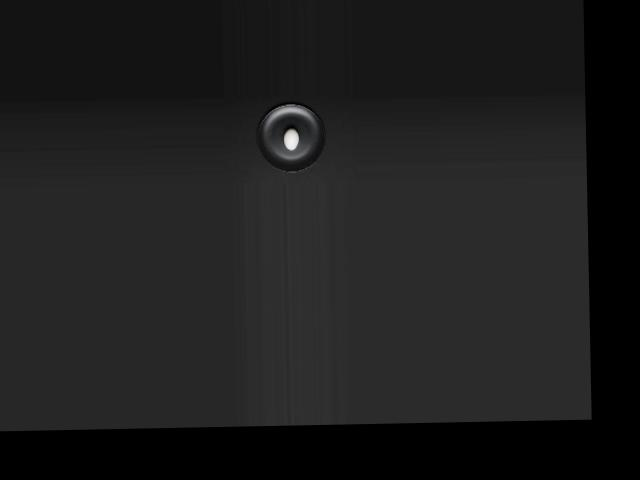egg: (283, 128, 299, 149)
